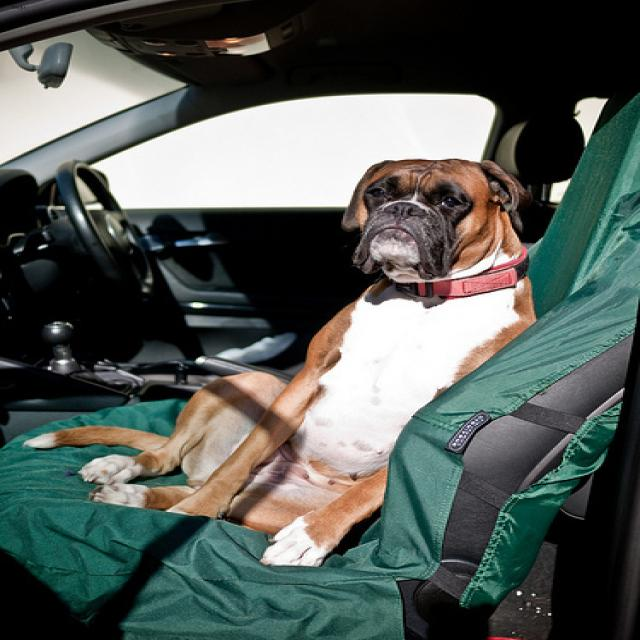dog-boxer: (17, 146, 543, 573)
